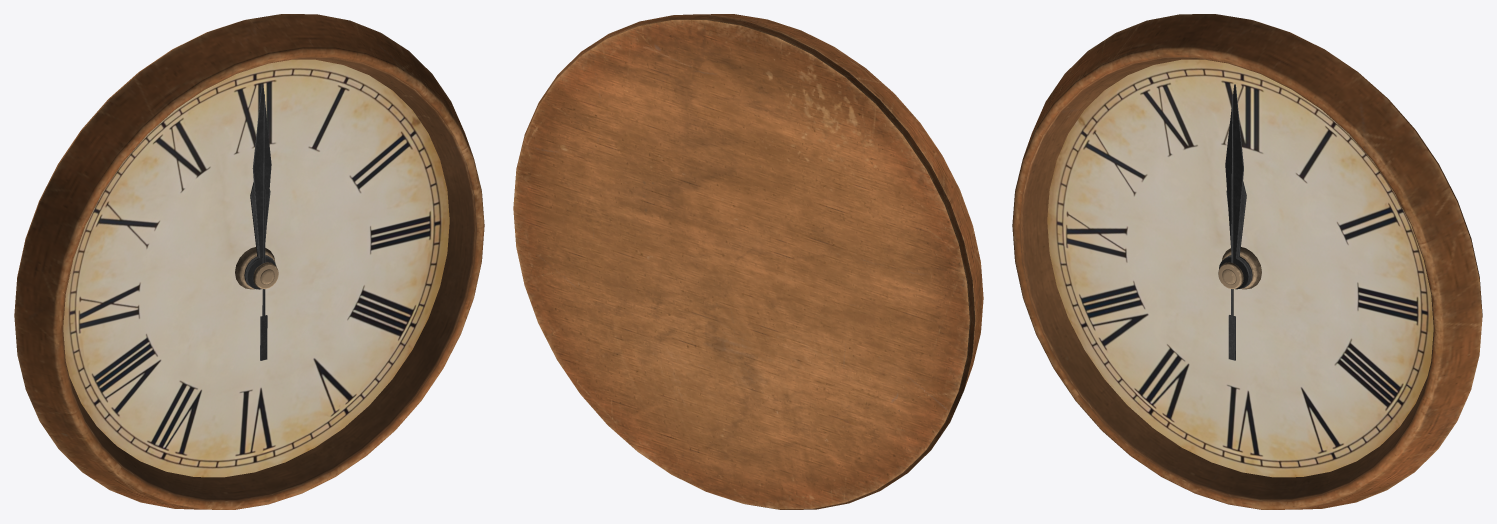
File: clock.glb
3 renders of one model, left to right at view 1: azimuth 30°, elevation 25°; view 2: azimuth 150°, elevation 25°; view 3: azimuth 330°, elevation 25°, orthographic.
Parts seen in each view (by area): view 1: clock_main, minute_hand, second_hand; view 2: clock_main; view 3: clock_main, minute_hand, second_hand.
Boxes of the visible parts, x1,y1,x2,y2 form: clock_main: [14, 14, 484, 509]; minute_hand: [246, 84, 276, 289]; second_hand: [260, 94, 267, 360]; clock_main: [513, 14, 983, 509]; clock_main: [1012, 14, 1482, 509]; minute_hand: [1219, 84, 1249, 289]; second_hand: [1228, 94, 1235, 360].
Size of the model in its own units: 34.14 by 34.14 by 3.53.
Materials: 2 (2 with a texture image).
